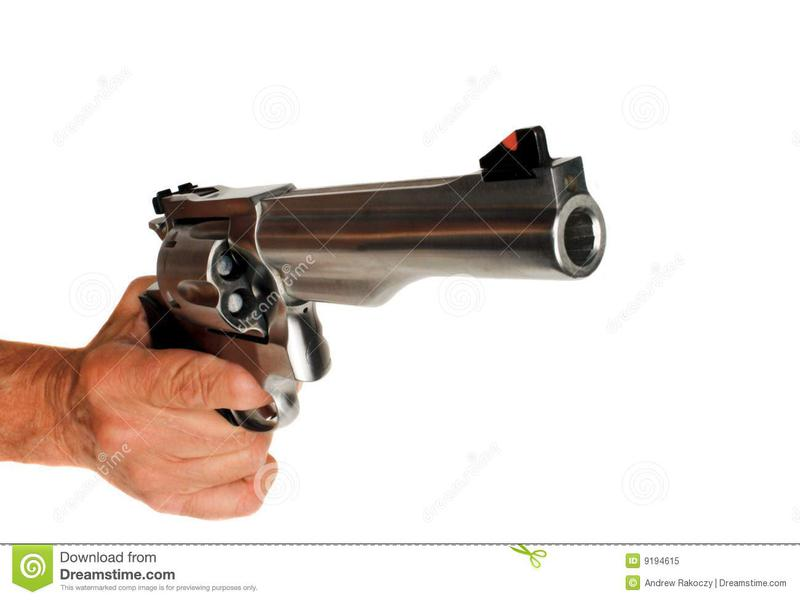Revolver: (126, 116, 621, 431)
